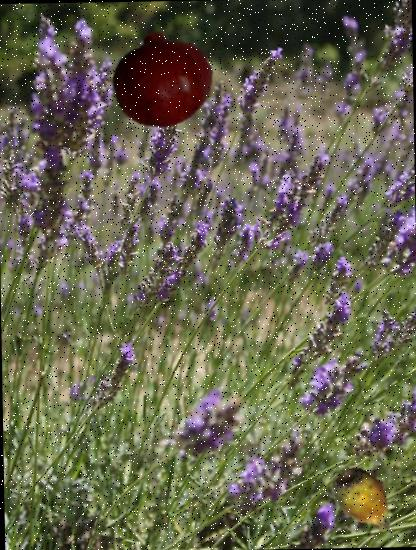Cactus: (328, 461, 406, 539)
Pomegranate: (110, 27, 214, 130)
